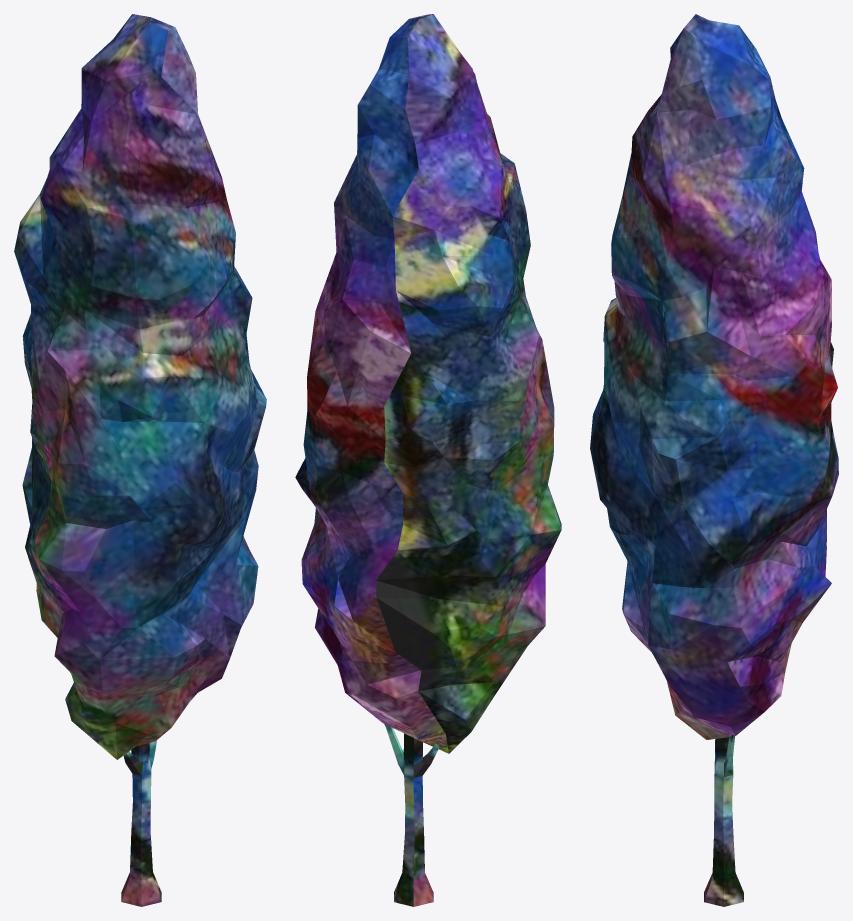
3 views of the same model, side by side, from view 1: azimuth 30°, elevation 25°; view 2: azimuth 150°, elevation 25°; view 3: azimuth 270°, elevation 25° (orthographic).
Parts seen in each view (by area): view 1: Object_4_Object_0; view 2: Object_4_Object_0; view 3: Object_4_Object_0.
Boxes of the visible parts, box(x1,y1,x2,y2) form: Object_4_Object_0: box(14, 14, 266, 906); Object_4_Object_0: box(295, 14, 561, 906); Object_4_Object_0: box(590, 14, 838, 906).
Bounding box in the file's own units: 1.79 × 6.43 × 1.65.
1 material, 1 textured.
